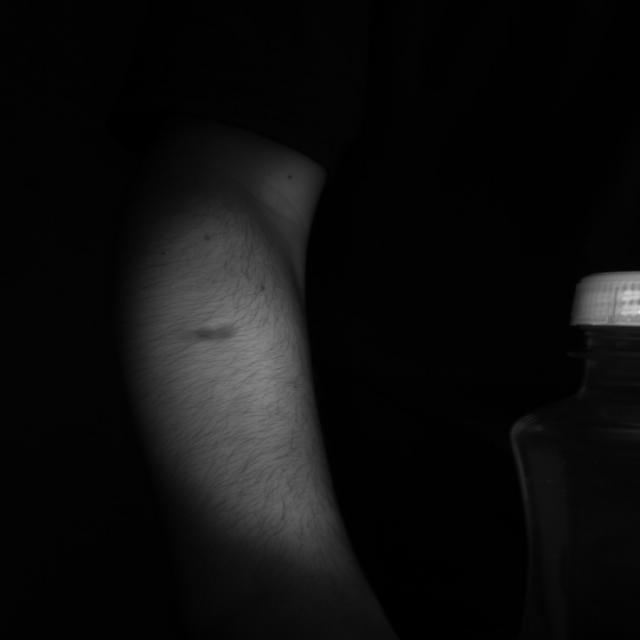Not Good: (570, 268, 640, 353)
